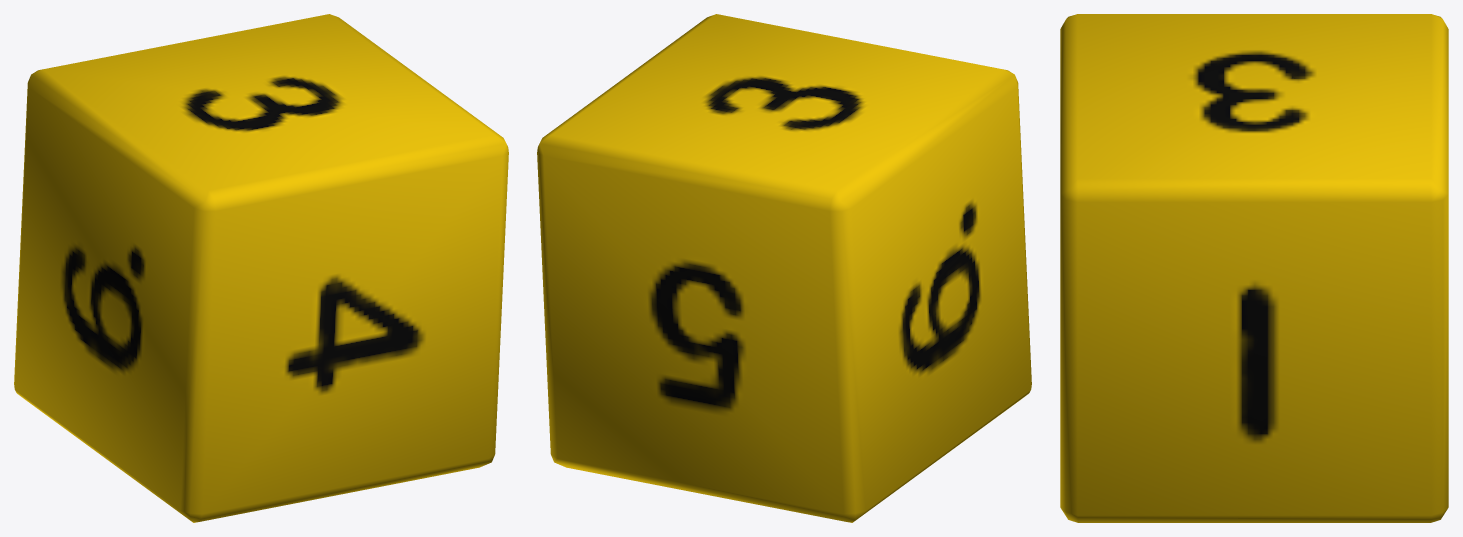
3 renders of one model, left to right at view 1: azimuth 30°, elevation 25°; view 2: azimuth 150°, elevation 25°; view 3: azimuth 270°, elevation 25°, orthographic. The views are drawn at different scales.
Parts seen in each view (by area): view 1: Six_sided_cube_pivot.003; view 2: Six_sided_cube_pivot.003; view 3: Six_sided_cube_pivot.003.
Part boxes in pixels (left/top/right/bottom): Six_sided_cube_pivot.003: left=14, top=14, right=508, bottom=522; Six_sided_cube_pivot.003: left=537, top=14, right=1031, bottom=522; Six_sided_cube_pivot.003: left=1060, top=14, right=1448, bottom=522.
Size of the model in its own units: 1.53 by 1.53 by 1.47.
Materials: 1 (1 with a texture image).
